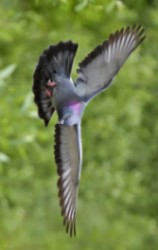pigeon: (28, 22, 147, 239)
